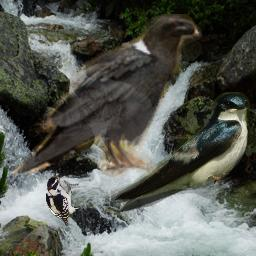Crow: (10, 14, 202, 184)
Swallow: (111, 92, 250, 215)
Woodpecker: (46, 174, 80, 226)
